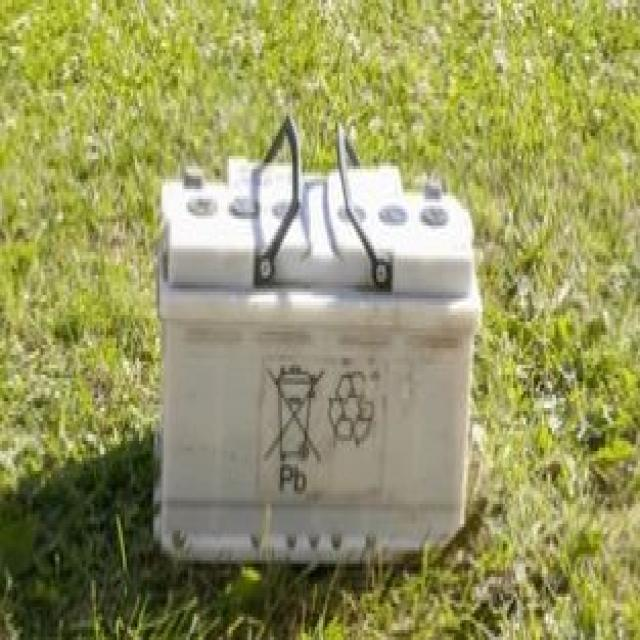electronic: (132, 81, 505, 619)
